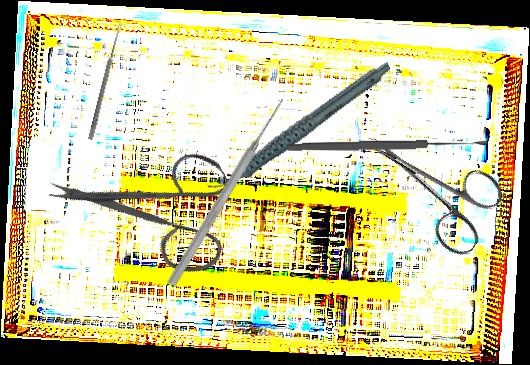Handpiece: (188, 59, 409, 194)
Iris Scissors: (42, 104, 262, 321), (344, 107, 514, 262)
Pusher: (165, 95, 289, 289)
Surgical Spoon: (87, 21, 124, 141), (285, 138, 490, 153)
